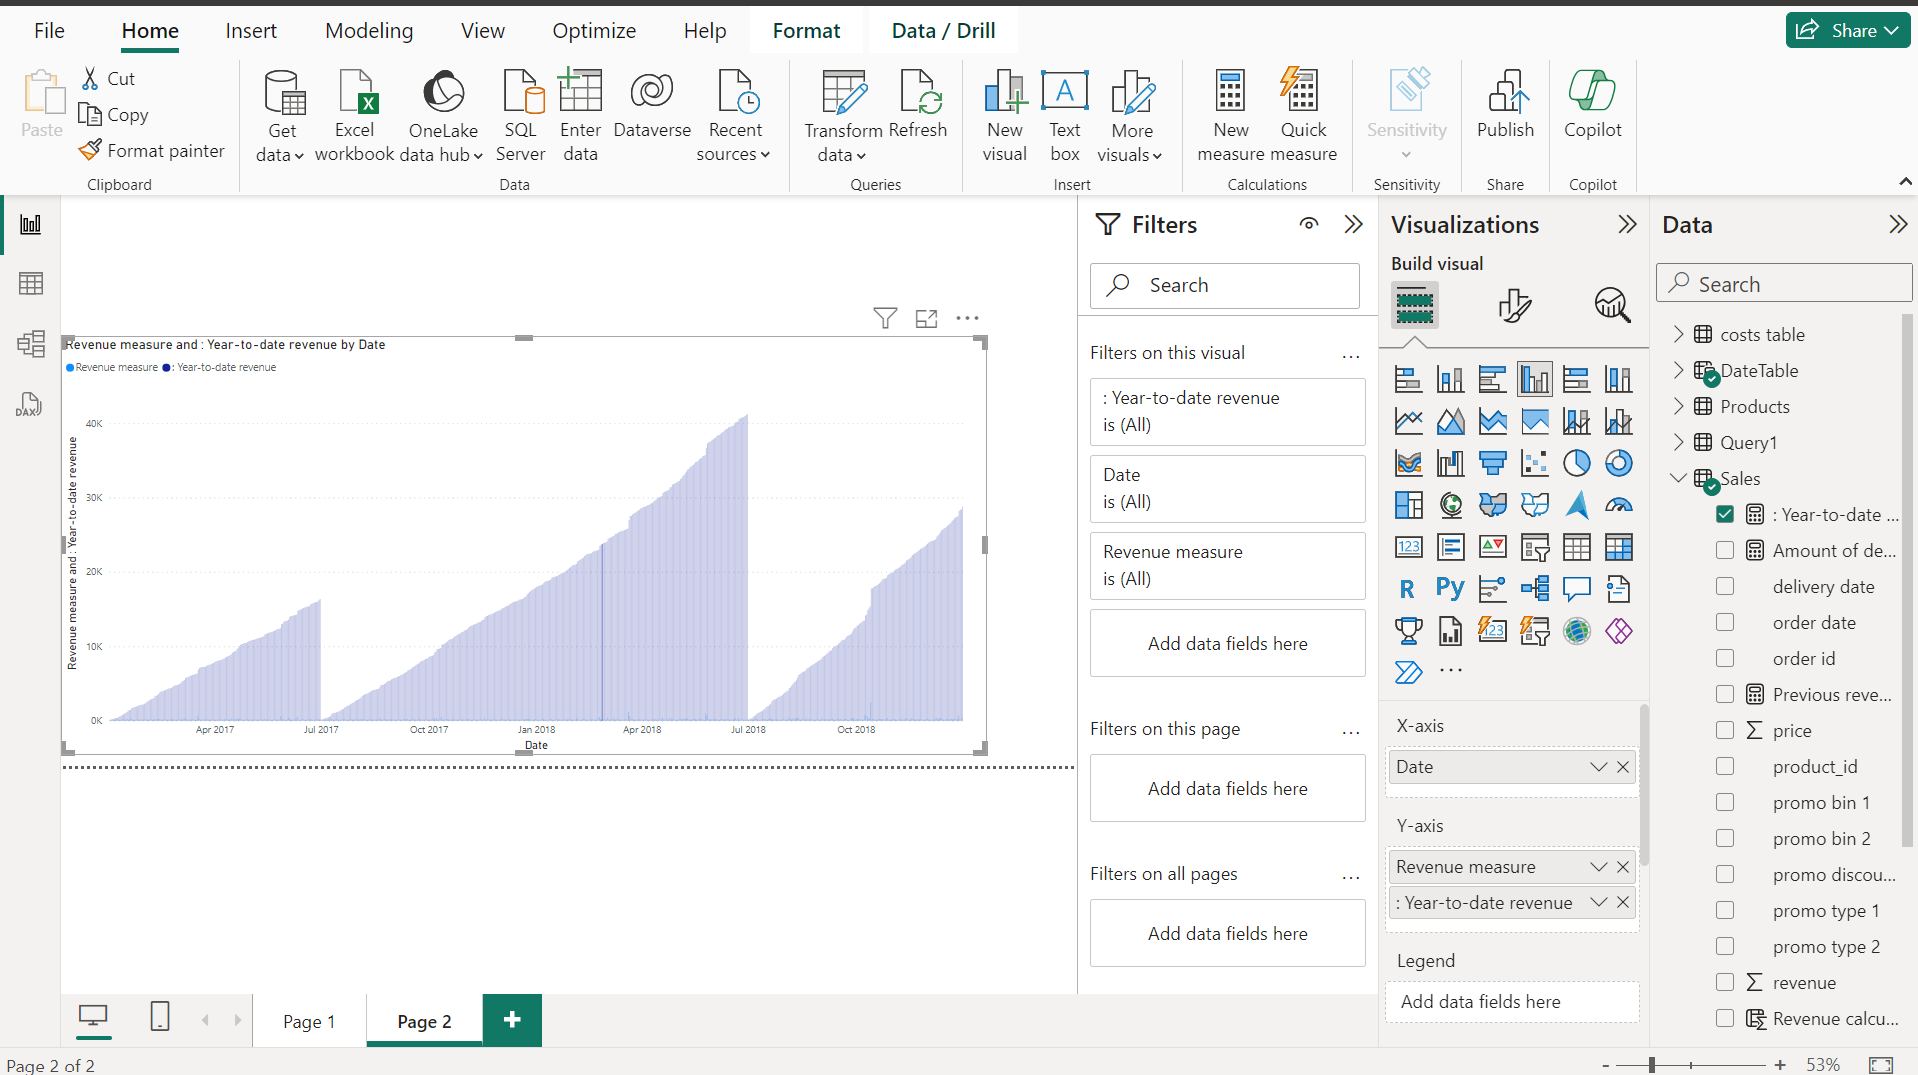

The dashboard page shown, as its layout file describes it:
{"tool":"powerbi","page":{"name":"Page 2","canvas":[1280,720],"ordinal":6},"visuals":[{"type":"lineChart","fields":{"Category":["DateTable.Date"],"Y":["Sales.Revenue measure"]},"box":[261.9,86.9,846.5,487.9],"z":0}]}

Visuals, with their boxes on the page's 1280x720 design canvas (x1, y1, x2, y2). These are canvas units, not pixel positions in the 1918x1075 screenshot, which may show the page scaled, cropped or inside an application window:
lineChart - DateTable.Date x Sales.Revenue measure: l=262, t=87, r=1108, b=575
